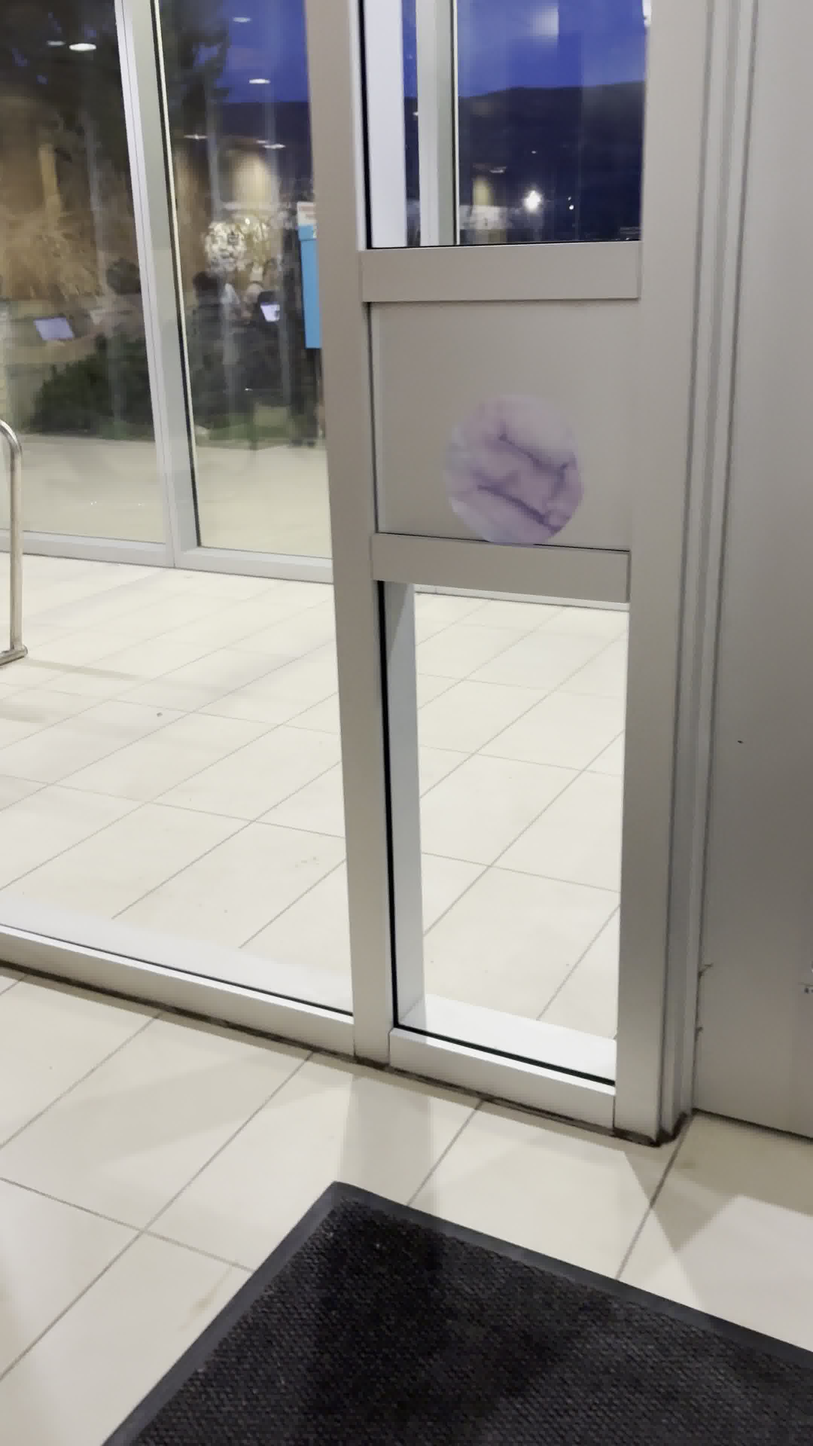Target: (441, 391, 589, 552)
